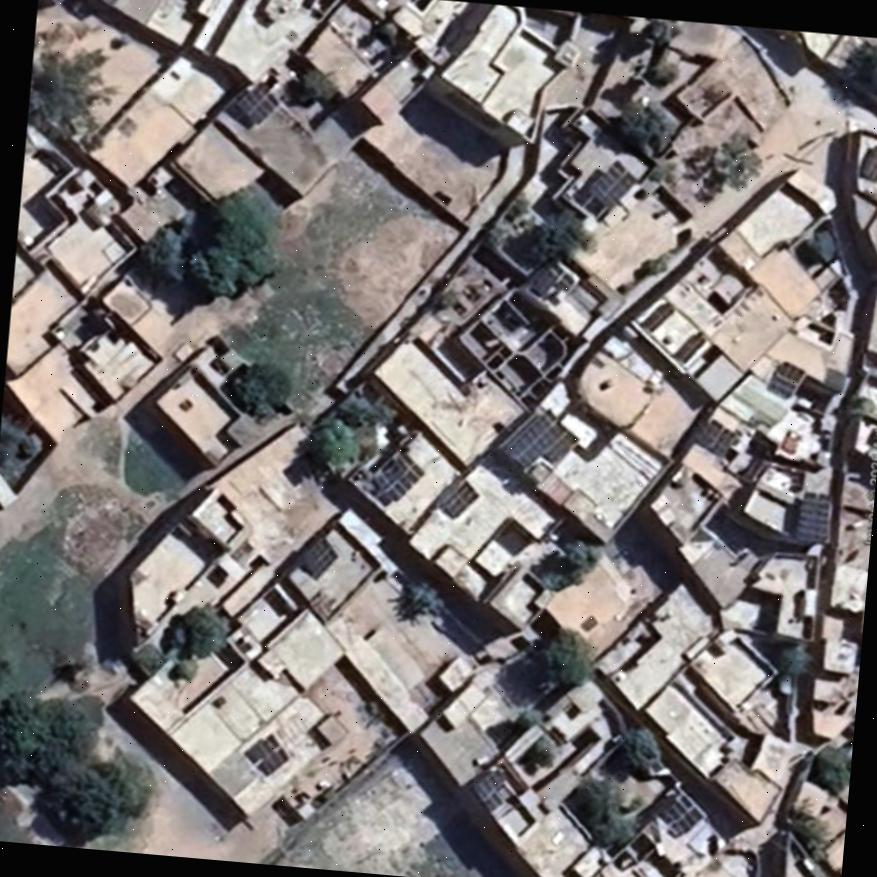Solarpanel: (504, 414, 566, 467), (588, 159, 634, 209), (655, 790, 704, 834), (794, 494, 830, 544), (239, 83, 277, 123)
